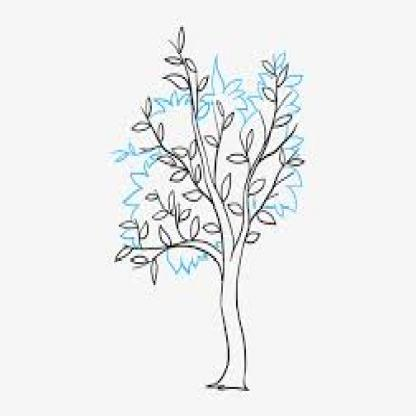branch_sharp: (110, 20, 306, 282)
trunk_reflex: (214, 286, 251, 359)
